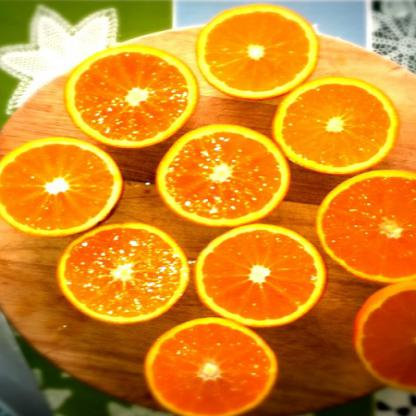knife: (0, 48, 144, 415)
